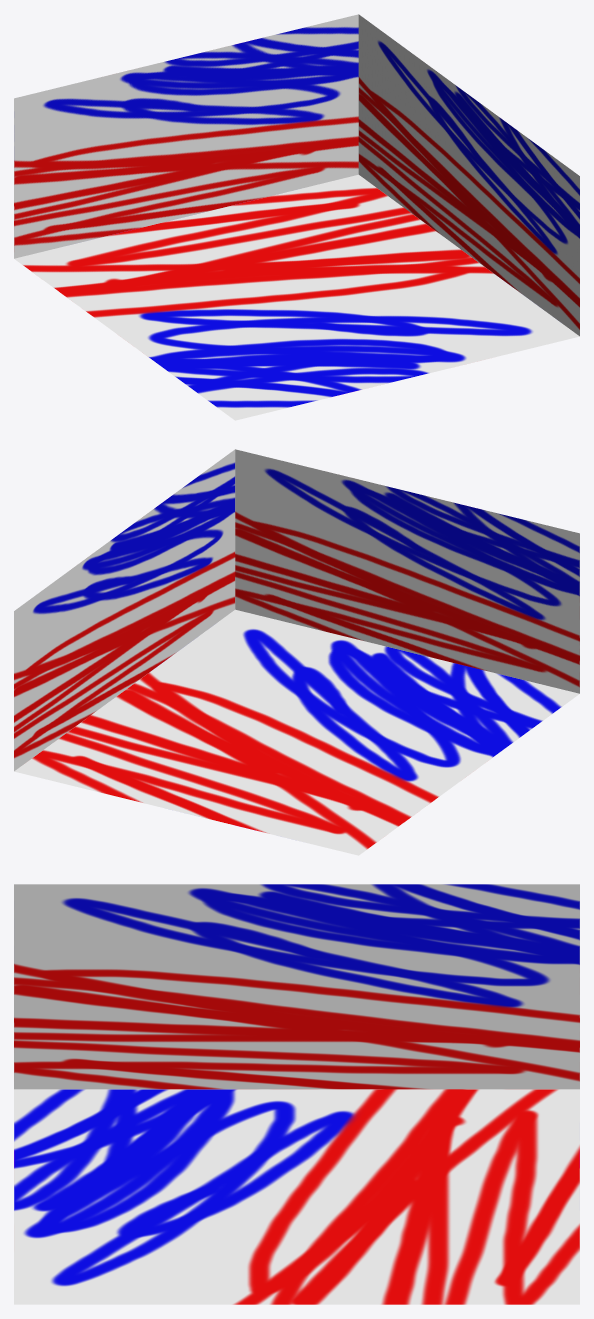
File: back_field_01.glb
3 renders of one model, top to bottom at view 1: azimuth 30°, elevation 25°; view 2: azimuth 150°, elevation 25°; view 3: azimuth 270°, elevation 25°, orthographic. The views are drawn at different scales.
Parts seen in each view (by area): view 1: obj1; view 2: obj1; view 3: obj1.
Part boxes in pixels (bbox=[...]): obj1: bbox=[14, 14, 579, 420]; obj1: bbox=[14, 449, 579, 855]; obj1: bbox=[14, 884, 579, 1304].
Size of the model in its own units: 900 by 400 by 1000.
Materials: 1 (1 with a texture image).
